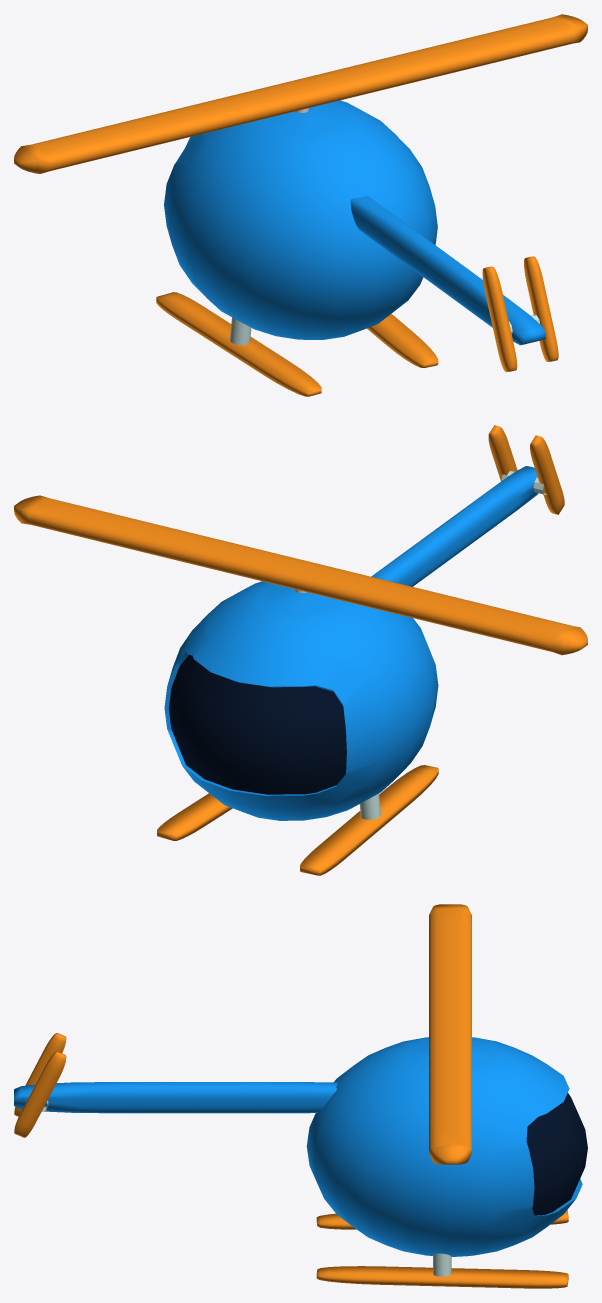
File: Helicopter12.glb
3 views of the same model, one above another, from view 1: azimuth 30°, elevation 25°; view 2: azimuth 150°, elevation 25°; view 3: azimuth 270°, elevation 25° (orthographic). The views are drawn at different scales.
Visible parts, largest first — view 1: Cube.001, Cube, Cube.003, Cube.010, Cube.006, Cube.009, Cube.005; view 2: Cube.001, Cube, Cube.003, Cube.010, Cube.009, Cube.006, Cube.005; view 3: Cube.001, Cube, Cube.003, Cube.009, Cube.005, Cube.006, Cube.010.
Boxes of the visible parts, x1,y1,x2,y2 form: Cube.001: (164,100,437,339); Cube: (14,14,587,173); Cube.003: (350,195,545,345); Cube.010: (156,292,321,396); Cube.006: (482,266,517,372); Cube.009: (367,314,438,367); Cube.005: (524,256,558,361); Cube.001: (164,581,438,820); Cube: (14,495,587,655); Cube.003: (371,466,538,586); Cube.010: (300,765,438,875); Cube.009: (157,793,232,840); Cube.006: (530,435,564,514); Cube.005: (488,425,517,481); Cube.001: (306,1037,587,1256); Cube: (429,904,471,1164); Cube.003: (14,1082,337,1113); Cube.009: (316,1266,568,1288); Cube.005: (14,1051,66,1137); Cube.006: (14,1033,66,1116); Cube.010: (316,1210,568,1229).
Bounding box in the file's own units: 10.26 × 4.21 × 9.72.
